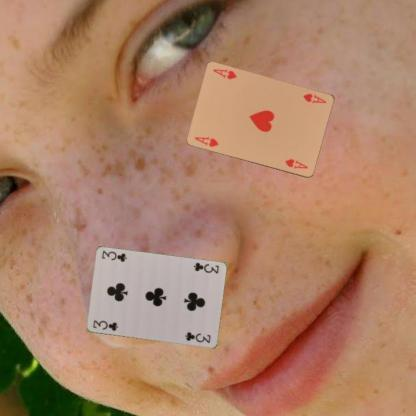3c: (191, 260, 221, 275), (90, 318, 119, 332)
Ah: (192, 134, 221, 148), (300, 90, 328, 104)
